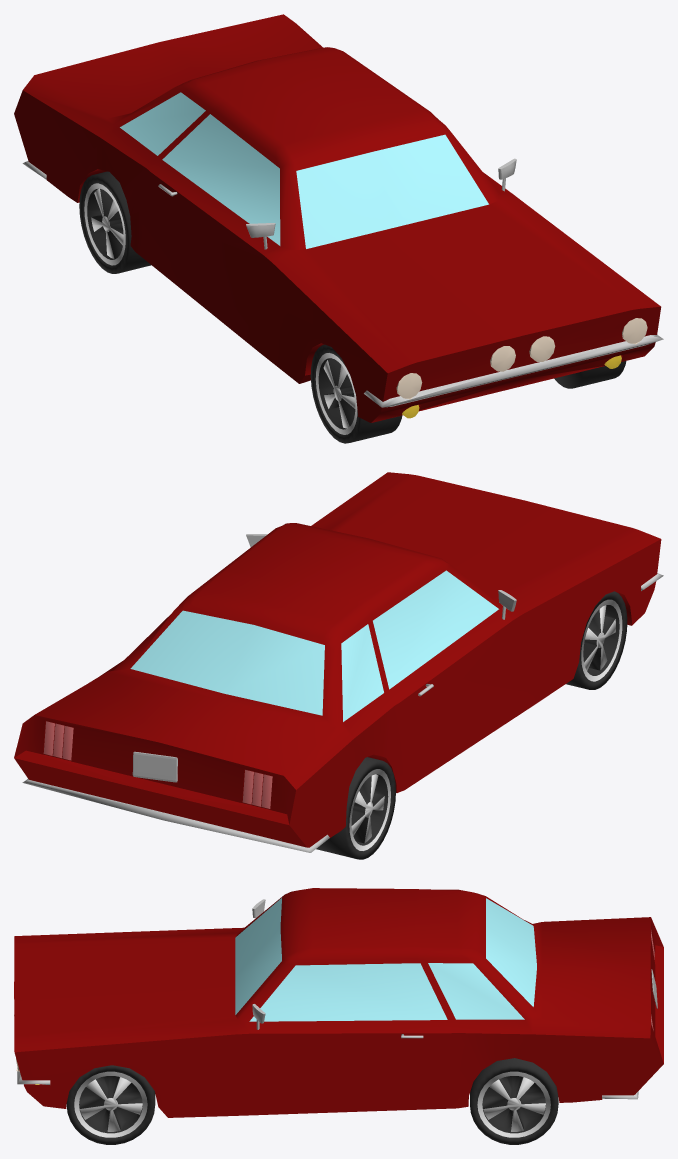
File: mustang.fbx
3 views of the same model, one above another, from view 1: azimuth 30°, elevation 25°; view 2: azimuth 150°, elevation 25°; view 3: azimuth 270°, elevation 25° (orthographic). The views are drawn at different scales.
Visible parts, largest first — view 1: car body, wheel front, wheel back, bumper front, mirror; view 2: car body, wheel back, wheel front, bumper back, Plate; view 3: car body, wheel back, wheel front.
Part boxes in pixels (bbox=[...]): car body: bbox=[14, 14, 661, 422]; wheel front: bbox=[310, 344, 626, 443]; wheel back: bbox=[79, 171, 151, 273]; bumper front: bbox=[364, 334, 663, 407]; mirror: bbox=[246, 158, 516, 249]; car body: bbox=[14, 472, 661, 847]; wheel back: bbox=[316, 757, 395, 859]; wheel front: bbox=[566, 591, 627, 689]; bumper back: bbox=[22, 779, 329, 852]; Plate: bbox=[132, 751, 177, 782]; car body: bbox=[14, 888, 663, 1117]; wheel back: bbox=[470, 1058, 558, 1144]; wheel front: bbox=[66, 1065, 155, 1144].
Size of the model in its own units: 210 by 137 by 472.
